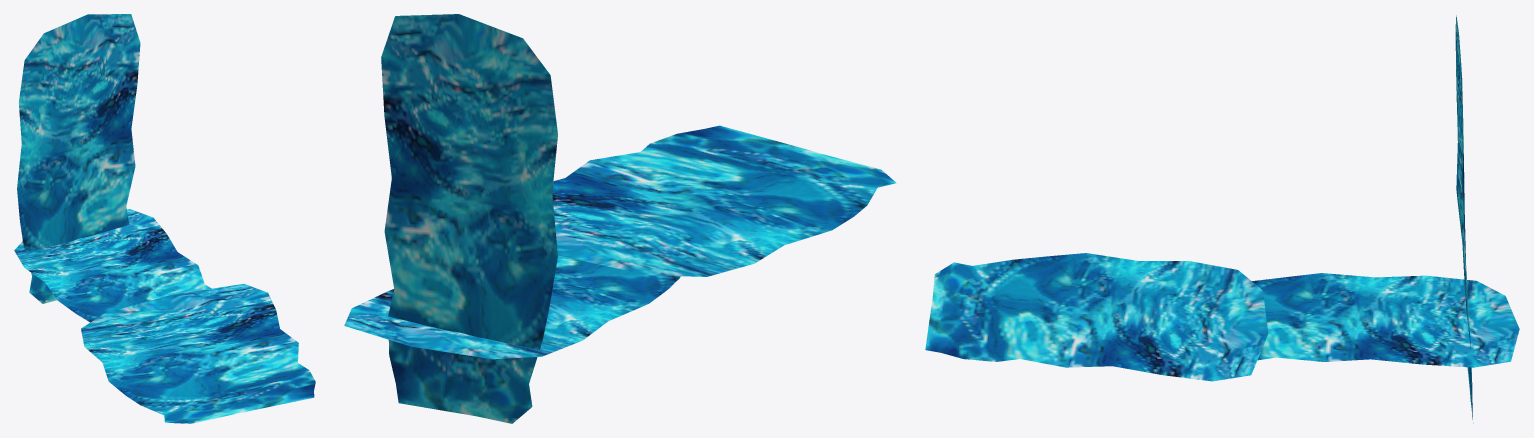
File: shui.FBX
3 views of the same model, side by side, from view 1: azimuth 30°, elevation 25°; view 2: azimuth 150°, elevation 25°; view 3: azimuth 270°, elevation 25° (orthographic). The views are drawn at different scales.
Visible parts, largest first — view 1: Object008; view 2: Object008; view 3: Object008.
Part boxes in pixels (x1,y1,x2,y2): Object008: (14, 14, 315, 423); Object008: (344, 14, 896, 423); Object008: (925, 15, 1519, 423).
Size of the model in its own units: 513 by 671 by 984.
1 material, 1 textured.
